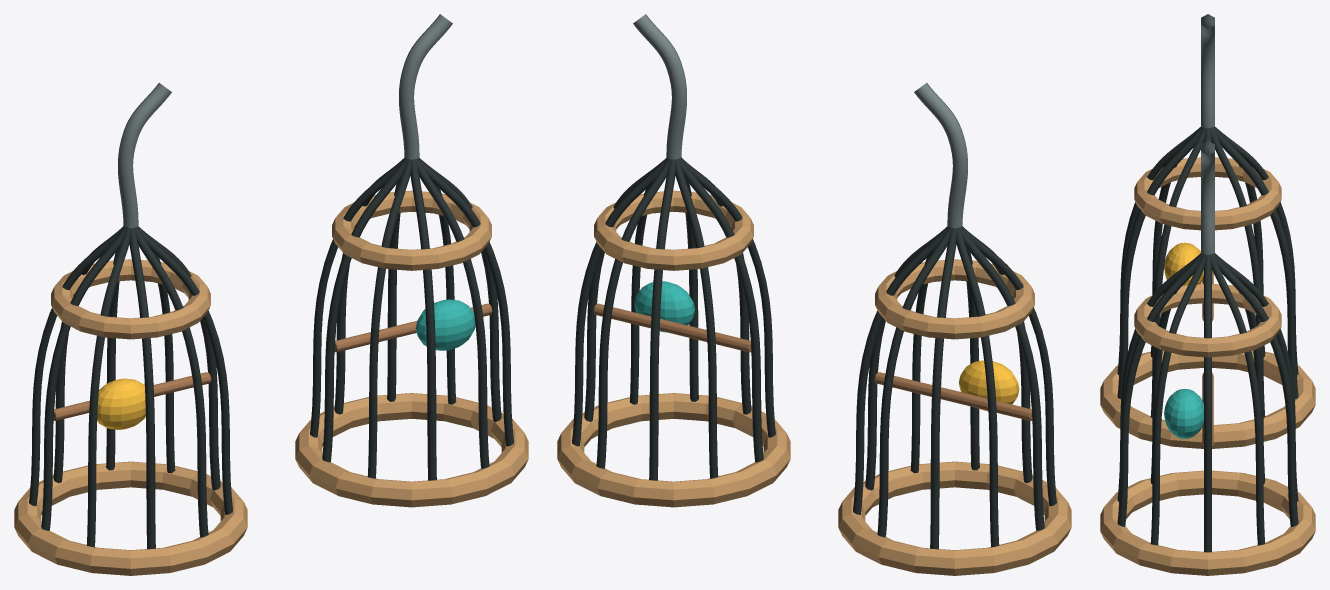
File: birdcage-v2.glb
3 renders of one model, left to right at view 1: azimuth 30°, elevation 25°; view 2: azimuth 150°, elevation 25°; view 3: azimuth 270°, elevation 25°, orthographic. The views are drawn at different scales.
Parts seen in each view (by area): view 1: BIRD CAGE CLUSTER · Ink, BIRD CAGE CLUSTER · Sun timber, BIRD CAGE CLUSTER · Dark metal, BIRD CAGE CLUSTER · Signal yellow, BIRD CAGE CLUSTER · Timber, BIRD CAGE CLUSTER · Weathered teal; view 2: BIRD CAGE CLUSTER · Ink, BIRD CAGE CLUSTER · Sun timber, BIRD CAGE CLUSTER · Dark metal, BIRD CAGE CLUSTER · Timber, BIRD CAGE CLUSTER · Signal yellow, BIRD CAGE CLUSTER · Weathered teal; view 3: BIRD CAGE CLUSTER · Sun timber, BIRD CAGE CLUSTER · Ink, BIRD CAGE CLUSTER · Dark metal, BIRD CAGE CLUSTER · Weathered teal, BIRD CAGE CLUSTER · Signal yellow, BIRD CAGE CLUSTER · Timber.
Part boxes in pixels (x1,y1,x2,y2): BIRD CAGE CLUSTER · Ink: (29, 158, 513, 549); BIRD CAGE CLUSTER · Sun timber: (14, 190, 528, 575); BIRD CAGE CLUSTER · Dark metal: (118, 14, 452, 228); BIRD CAGE CLUSTER · Signal yellow: (97, 378, 145, 429); BIRD CAGE CLUSTER · Timber: (53, 303, 492, 420); BIRD CAGE CLUSTER · Weathered teal: (415, 299, 475, 350); BIRD CAGE CLUSTER · Ink: (572, 158, 1056, 549); BIRD CAGE CLUSTER · Sun timber: (557, 190, 1071, 575); BIRD CAGE CLUSTER · Dark metal: (633, 14, 967, 228); BIRD CAGE CLUSTER · Timber: (593, 303, 1032, 420); BIRD CAGE CLUSTER · Signal yellow: (959, 360, 1019, 411); BIRD CAGE CLUSTER · Weathered teal: (634, 281, 694, 332); BIRD CAGE CLUSTER · Sun timber: (1100, 157, 1315, 575); BIRD CAGE CLUSTER · Ink: (1117, 126, 1298, 552); BIRD CAGE CLUSTER · Dark metal: (1201, 14, 1214, 254); BIRD CAGE CLUSTER · Weathered teal: (1164, 389, 1203, 438); BIRD CAGE CLUSTER · Signal yellow: (1164, 242, 1203, 285); BIRD CAGE CLUSTER · Timber: (1202, 270, 1213, 447).
Bounding box in the file's own units: 2.25 × 1.95 × 0.9355.
